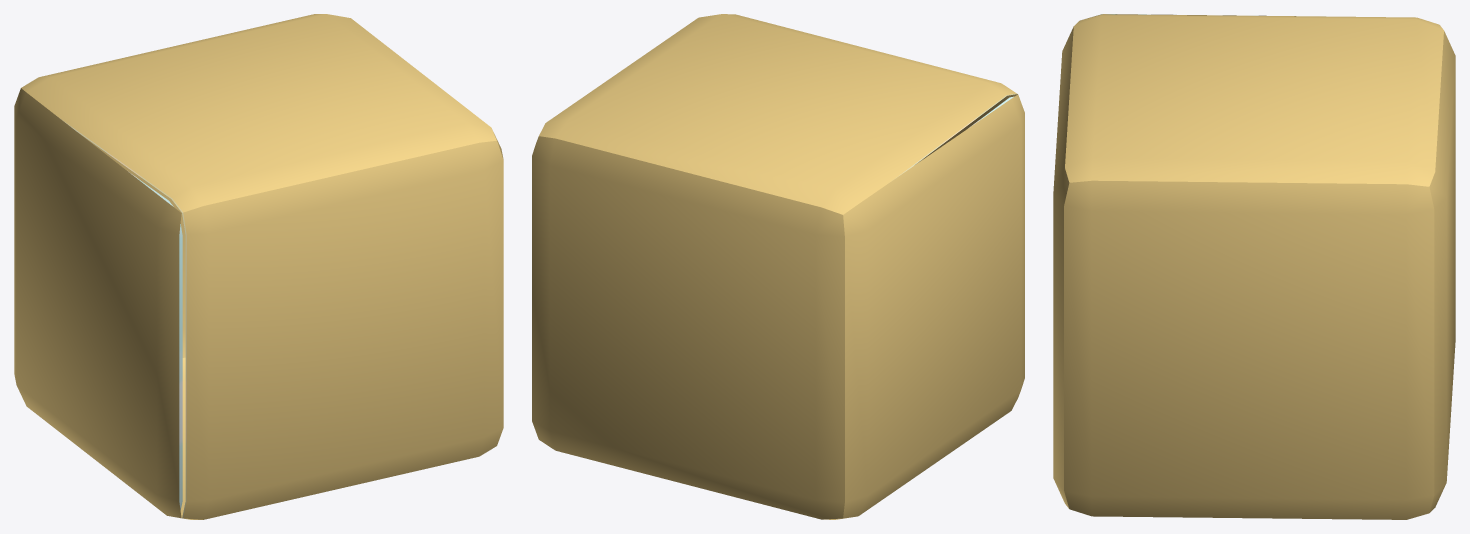
File: Props_Box_01.fbx
The picture shows the model from 3 angles, left to right: view 1: azimuth 30°, elevation 25°; view 2: azimuth 150°, elevation 25°; view 3: azimuth 270°, elevation 25°; orthographic projection. The views are drawn at different scales.
Parts seen in each view (by area): view 1: Props_Box_01; view 2: Props_Box_01; view 3: Props_Box_01.
Boxes of the visible parts, left/top/right/bottom form: Props_Box_01: left=14, top=14, right=503, bottom=519; Props_Box_01: left=532, top=14, right=1024, bottom=519; Props_Box_01: left=1053, top=14, right=1455, bottom=519.
Size of the model in its own units: 56.84 by 52.32 by 53.48.
